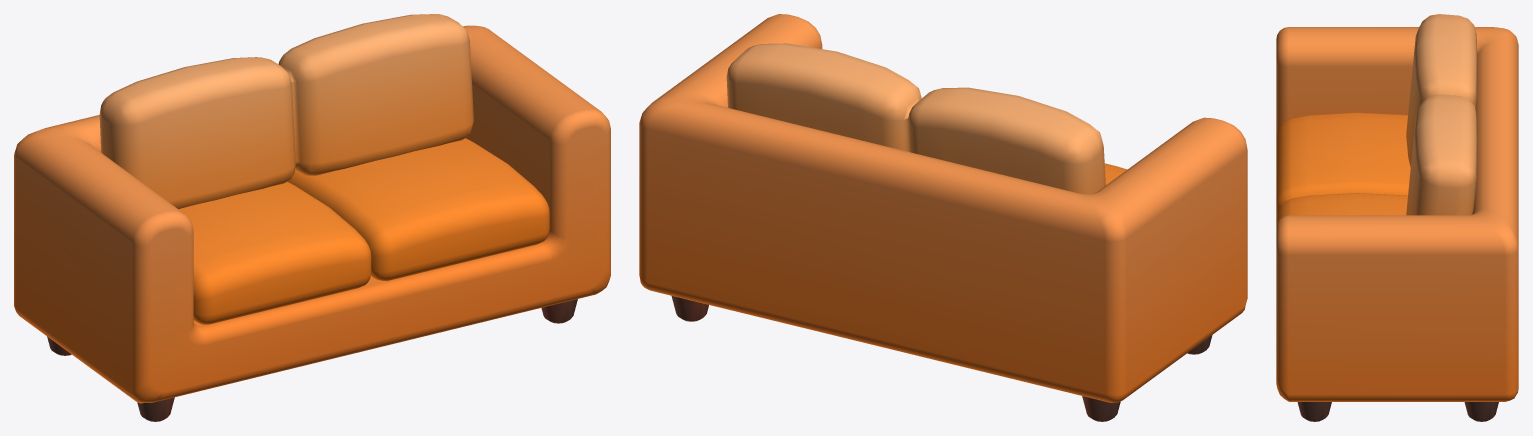
File: Couch_001.fbx
3 views of the same model, side by side, from view 1: azimuth 30°, elevation 25°; view 2: azimuth 150°, elevation 25°; view 3: azimuth 270°, elevation 25° (orthographic). The views are drawn at different scales.
Visible parts, largest first — view 1: Couch_001; view 2: Couch_001; view 3: Couch_001.
Part boxes in pixels (left/top/right/bottom): Couch_001: left=14, top=14, right=610, bottom=421; Couch_001: left=639, top=14, right=1247, bottom=421; Couch_001: left=1276, top=14, right=1518, bottom=421.
Bounding box in the file's own units: 1.61 × 0.8621 × 0.765.
